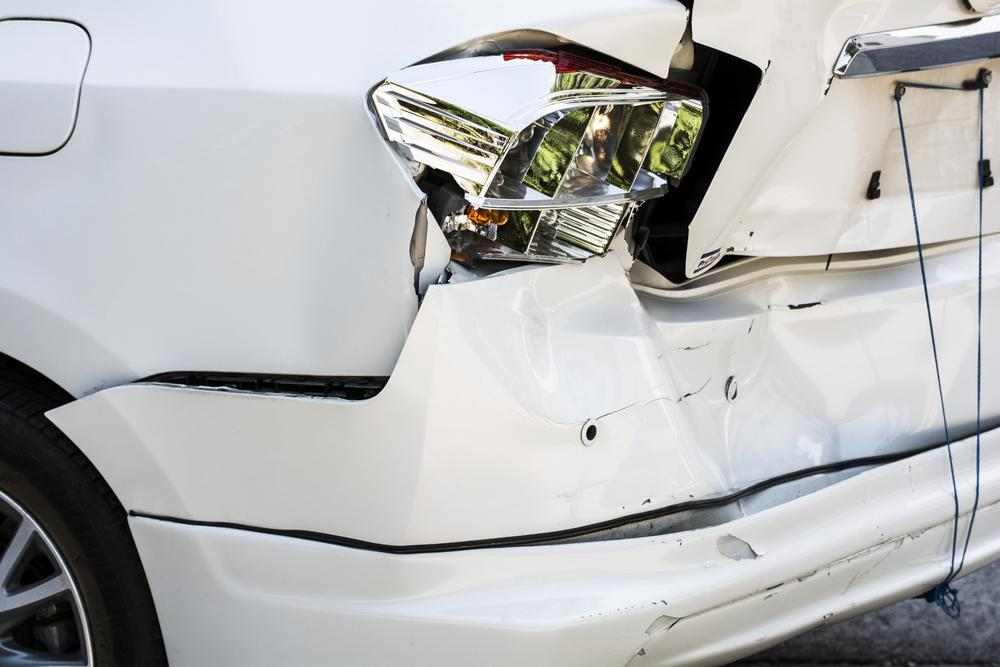crack: (409, 199, 428, 312)
dent: (451, 266, 816, 495), (700, 78, 887, 275)
lamp broken: (370, 33, 719, 280)
